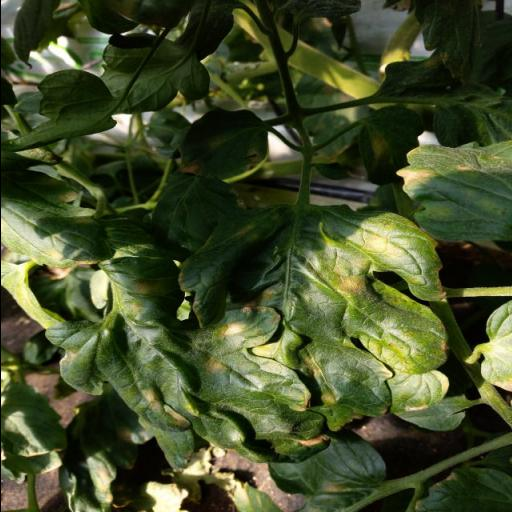Leaf Mold: (177, 204, 448, 432), (42, 218, 198, 432), (189, 304, 335, 463), (392, 138, 512, 244)
